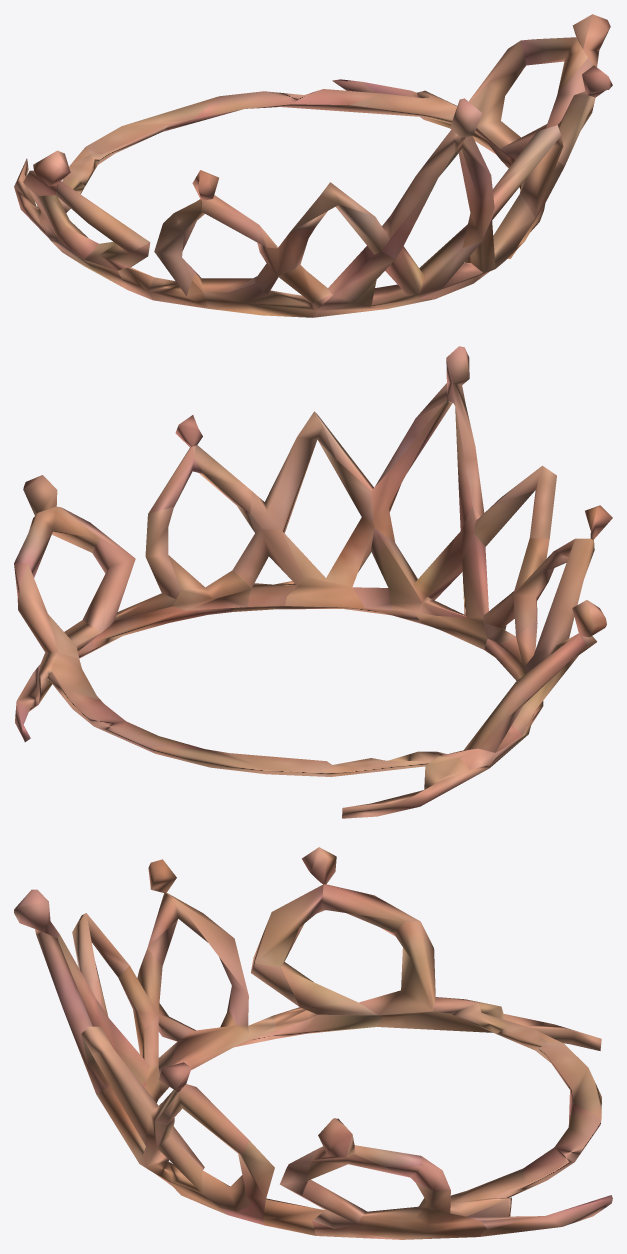
3 views of the same model, one above another, from view 1: azimuth 30°, elevation 25°; view 2: azimuth 150°, elevation 25°; view 3: azimuth 270°, elevation 25° (orthographic). The views are drawn at different scales.
Visible parts, largest first — view 1: Pink-Tiara-19; view 2: Pink-Tiara-19; view 3: Pink-Tiara-19.
Boxes of the visible parts, box(x1,y1,x2,y2) form: Pink-Tiara-19: box(14, 14, 612, 317); Pink-Tiara-19: box(14, 346, 612, 818); Pink-Tiara-19: box(14, 847, 612, 1239).
Bounding box in the file's own units: 0.2799 × 0.1114 × 0.2452.
1 material, 1 textured.
